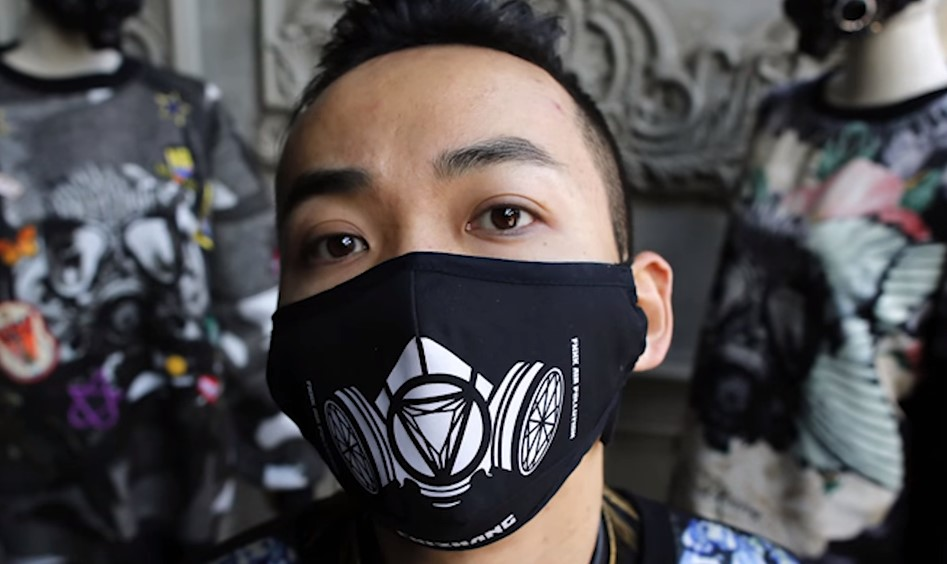face_with_mask: (264, 34, 682, 557)
